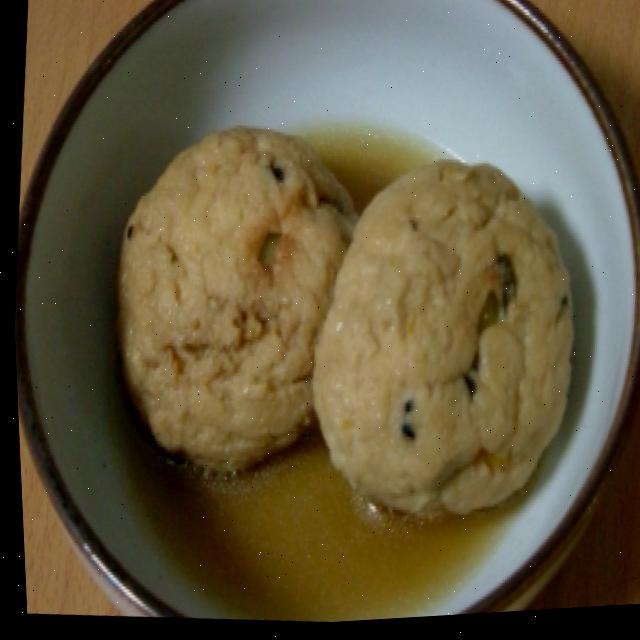熟制海鲜: (49, 60, 602, 521)
